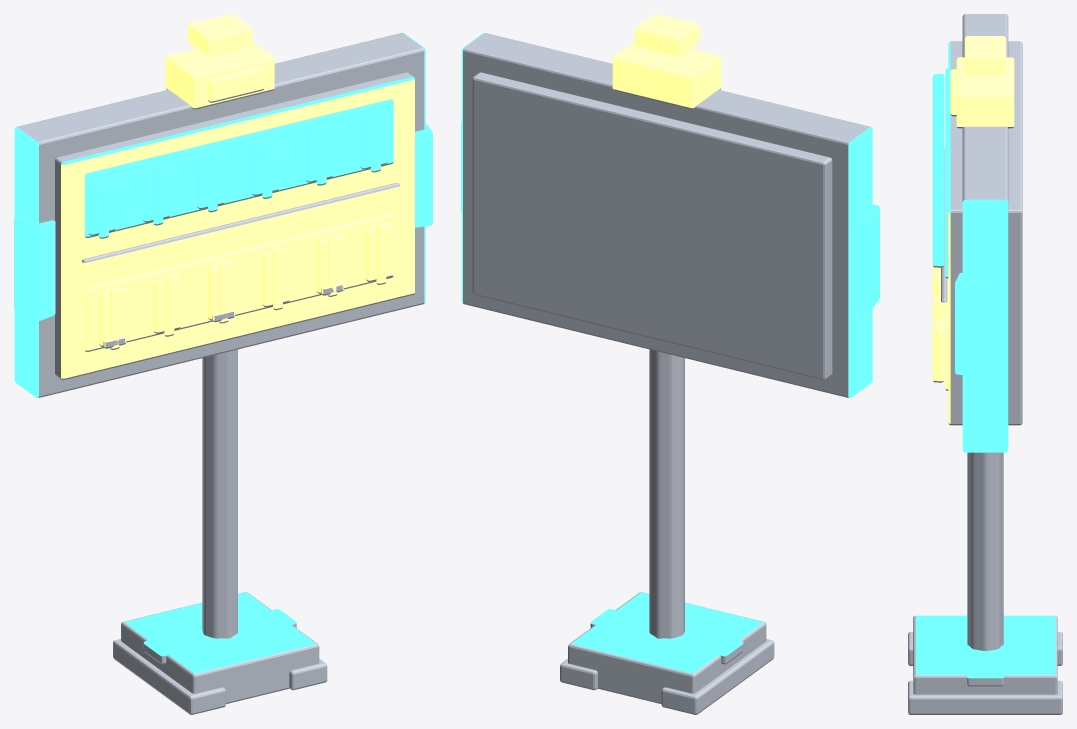
File: Hangar_LaunchSign.fbx
The picture shows the model from 3 angles, left to right: view 1: azimuth 30°, elevation 25°; view 2: azimuth 150°, elevation 25°; view 3: azimuth 270°, elevation 25°; orthographic projection.
Parts seen in each view (by area): view 1: Hangar_LaunchSign_Buffer_v2; view 2: Hangar_LaunchSign_Buffer_v2; view 3: Hangar_LaunchSign_Buffer_v2.
Boxes of the visible parts, bbox=[...] form: Hangar_LaunchSign_Buffer_v2: bbox=[14, 14, 432, 714]; Hangar_LaunchSign_Buffer_v2: bbox=[461, 14, 879, 714]; Hangar_LaunchSign_Buffer_v2: bbox=[908, 14, 1062, 714].
Bounding box in the file's own units: 2.25 × 3.4 × 0.75.
